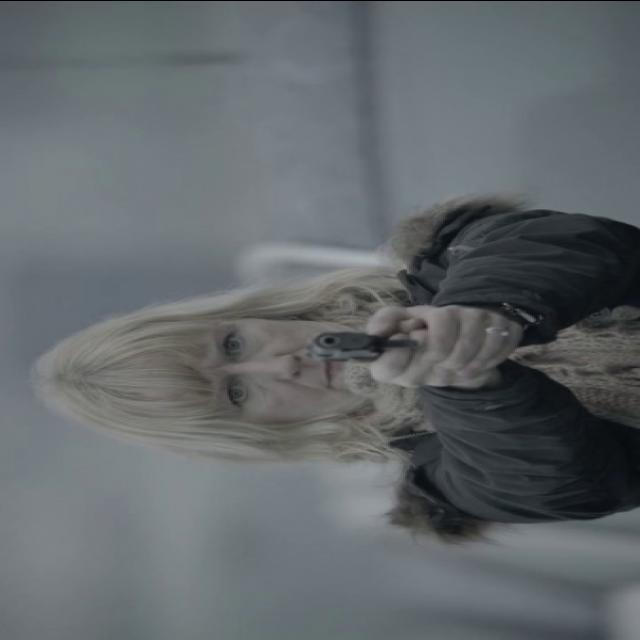weapons: (284, 308, 515, 382)
